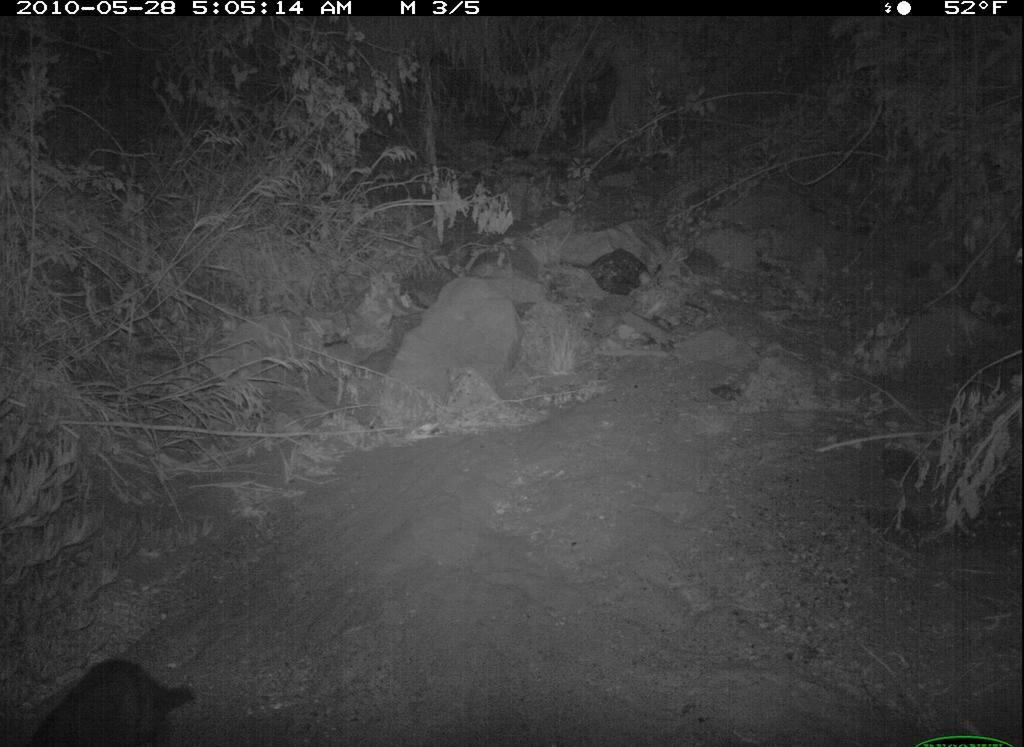cat: (6, 649, 200, 747)
